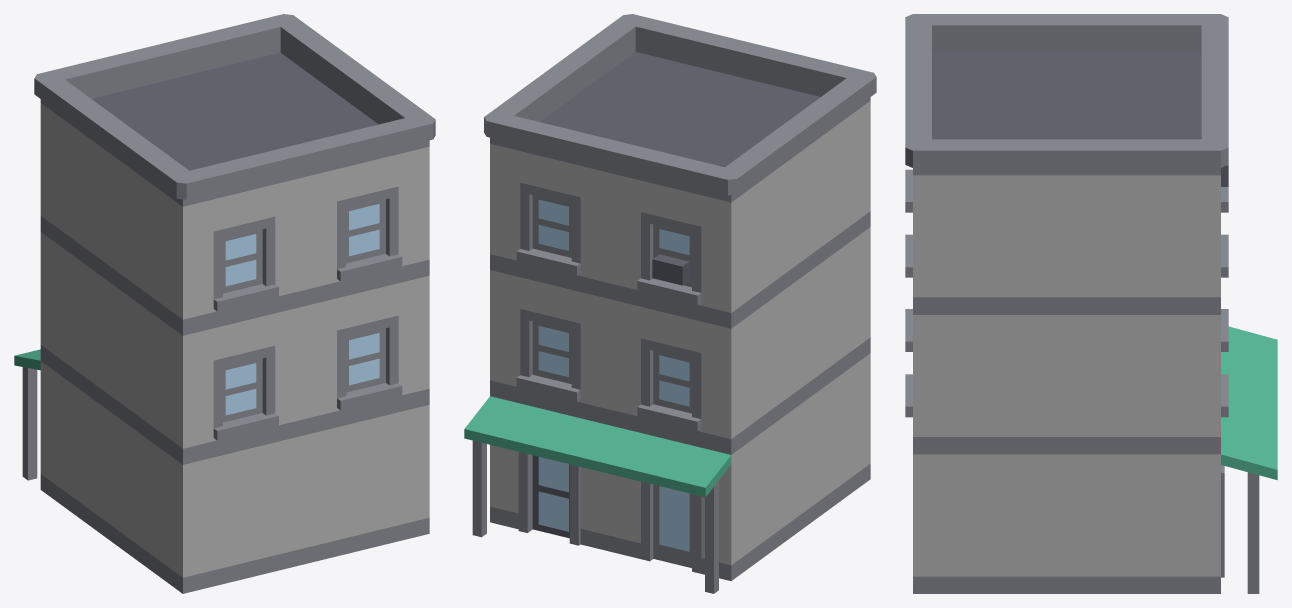
The model's file is small_buildingD.dae.
3 renders of one model, left to right at view 1: azimuth 30°, elevation 25°; view 2: azimuth 150°, elevation 25°; view 3: azimuth 270°, elevation 25°, orthographic. The views are drawn at different scales.
Visible parts, largest first — view 1: small_buildingD; view 2: small_buildingD; view 3: small_buildingD.
Part boxes in pixels (<box>): small_buildingD: <box>14,14,435,593</box>; small_buildingD: <box>464,14,876,593</box>; small_buildingD: <box>905,14,1277,593</box>.
Size of the model in its own units: 0.84 by 1.28 by 0.9679.
